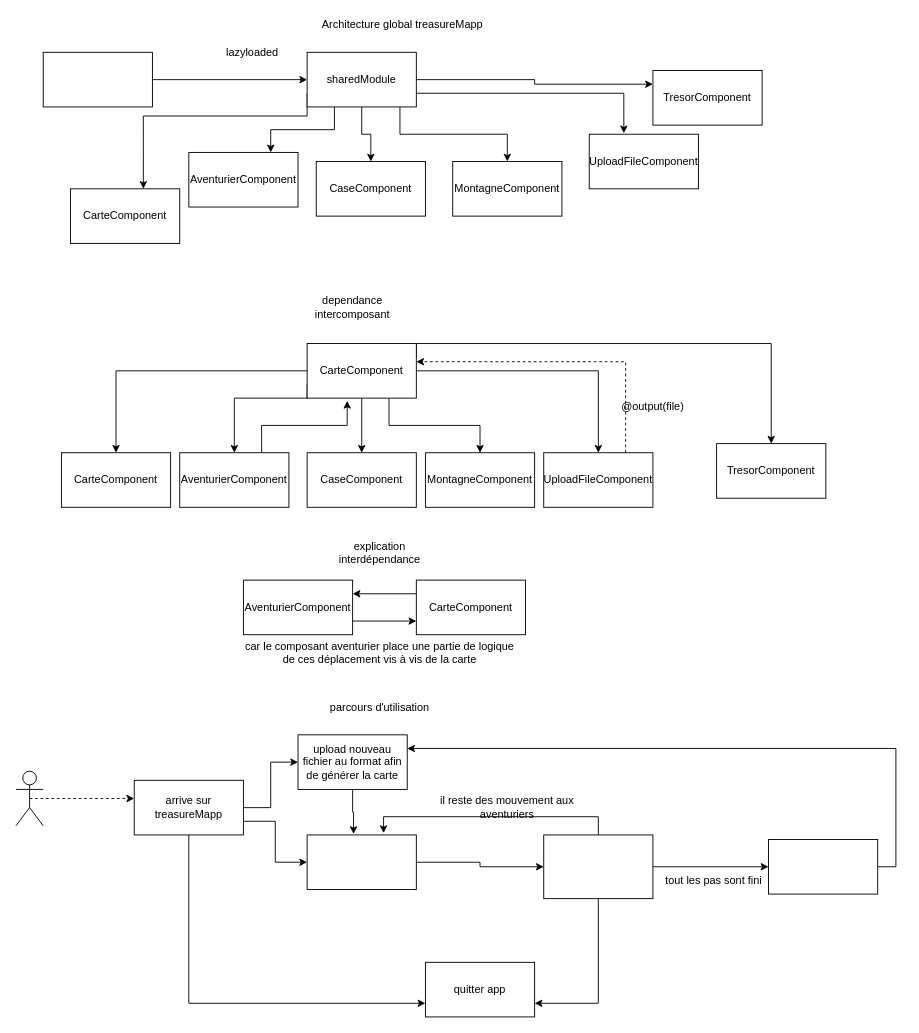
Some shapes in this 919 by 1033 pixel diagram are drawn without their labels. Each missing label, with the centre of its shape:
Actor: the point at 29,798
AppModule: the point at 97,79
button continuer effectue un pas jeu: the point at 598,866
download fichier de fin de partie avec les la description de la carte: the point at 823,866
joue: the point at 361,862
